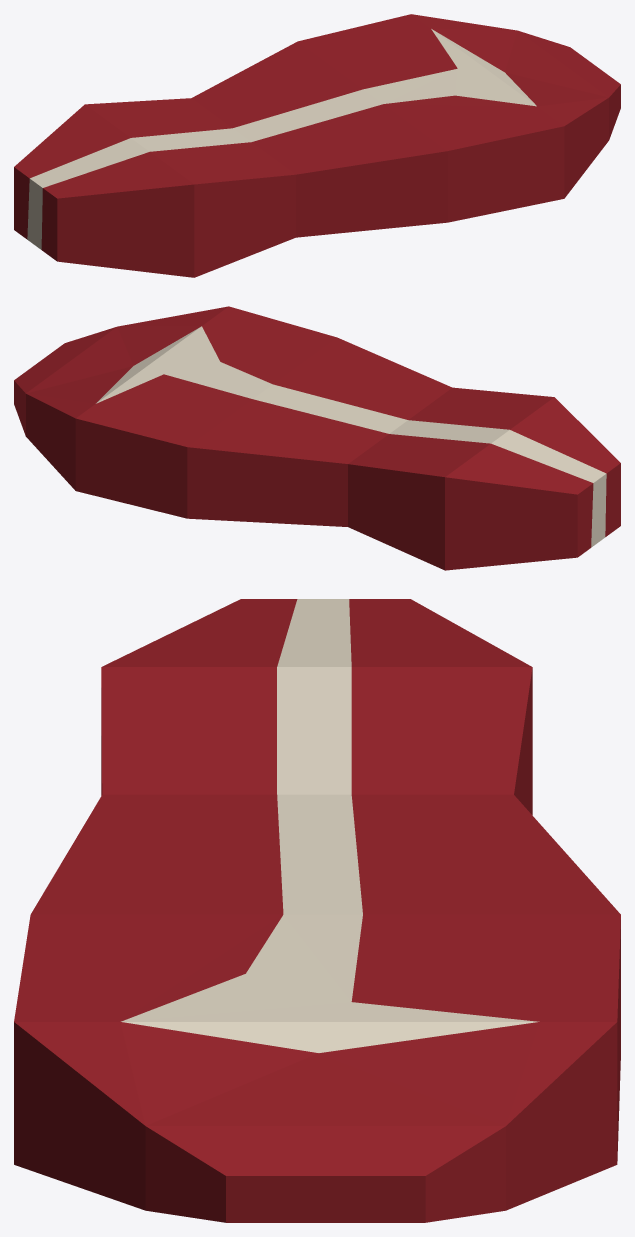
File: steak.fbx
The picture shows the model from 3 angles, top to bottom: view 1: azimuth 30°, elevation 25°; view 2: azimuth 150°, elevation 25°; view 3: azimuth 270°, elevation 25°; orthographic projection. The views are drawn at different scales.
Visible parts, largest first — view 1: steak; view 2: steak; view 3: steak.
Part boxes in pixels (x1,y1,x2,y2): steak: [14, 14, 620, 277]; steak: [14, 306, 620, 570]; steak: [14, 599, 620, 1222].
Size of the model in its own units: 56.19 by 26.78 by 8.95.
